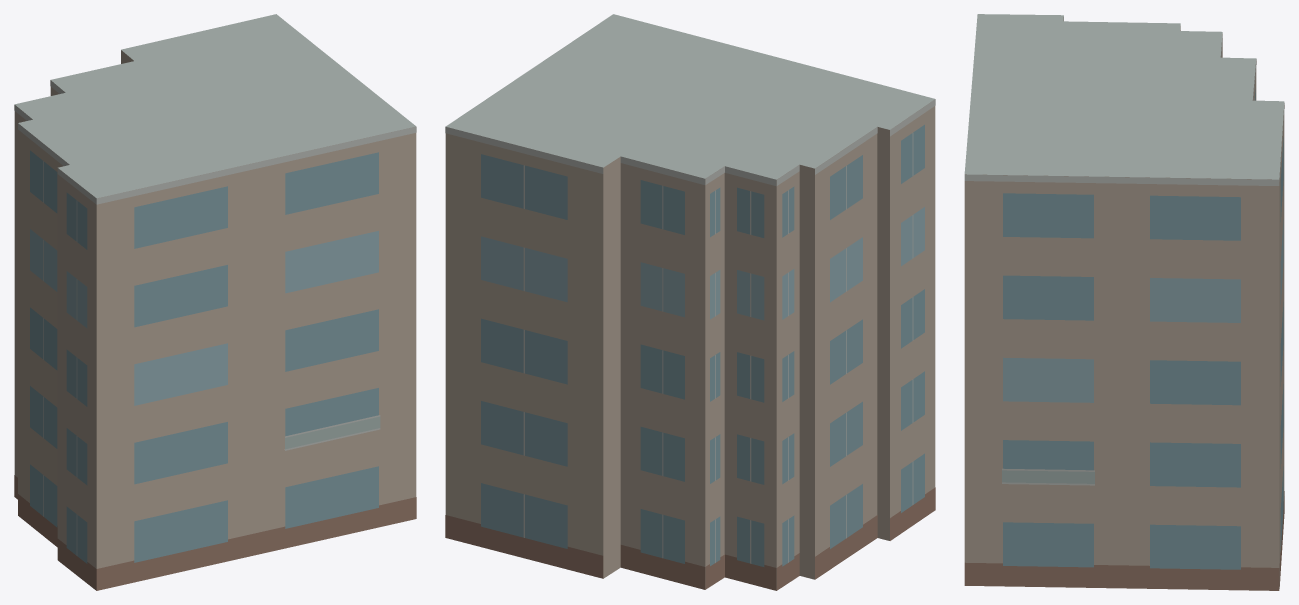
Rendered from survey-upis-32576280.glb.
3 renders of one model, left to right at view 1: azimuth 30°, elevation 25°; view 2: azimuth 150°, elevation 25°; view 3: azimuth 270°, elevation 25°, orthographic. The views are drawn at different scales.
Parts seen in each view (by area): view 1: survey-upis-32576280.tmp; view 2: survey-upis-32576280.tmp; view 3: survey-upis-32576280.tmp.
Boxes of the visible parts, <box> form: survey-upis-32576280.tmp: <box>14,14,416,590</box>; survey-upis-32576280.tmp: <box>445,14,935,590</box>; survey-upis-32576280.tmp: <box>964,14,1284,590</box>.
Size of the model in its own units: 13.17 by 15.25 by 10.76.
